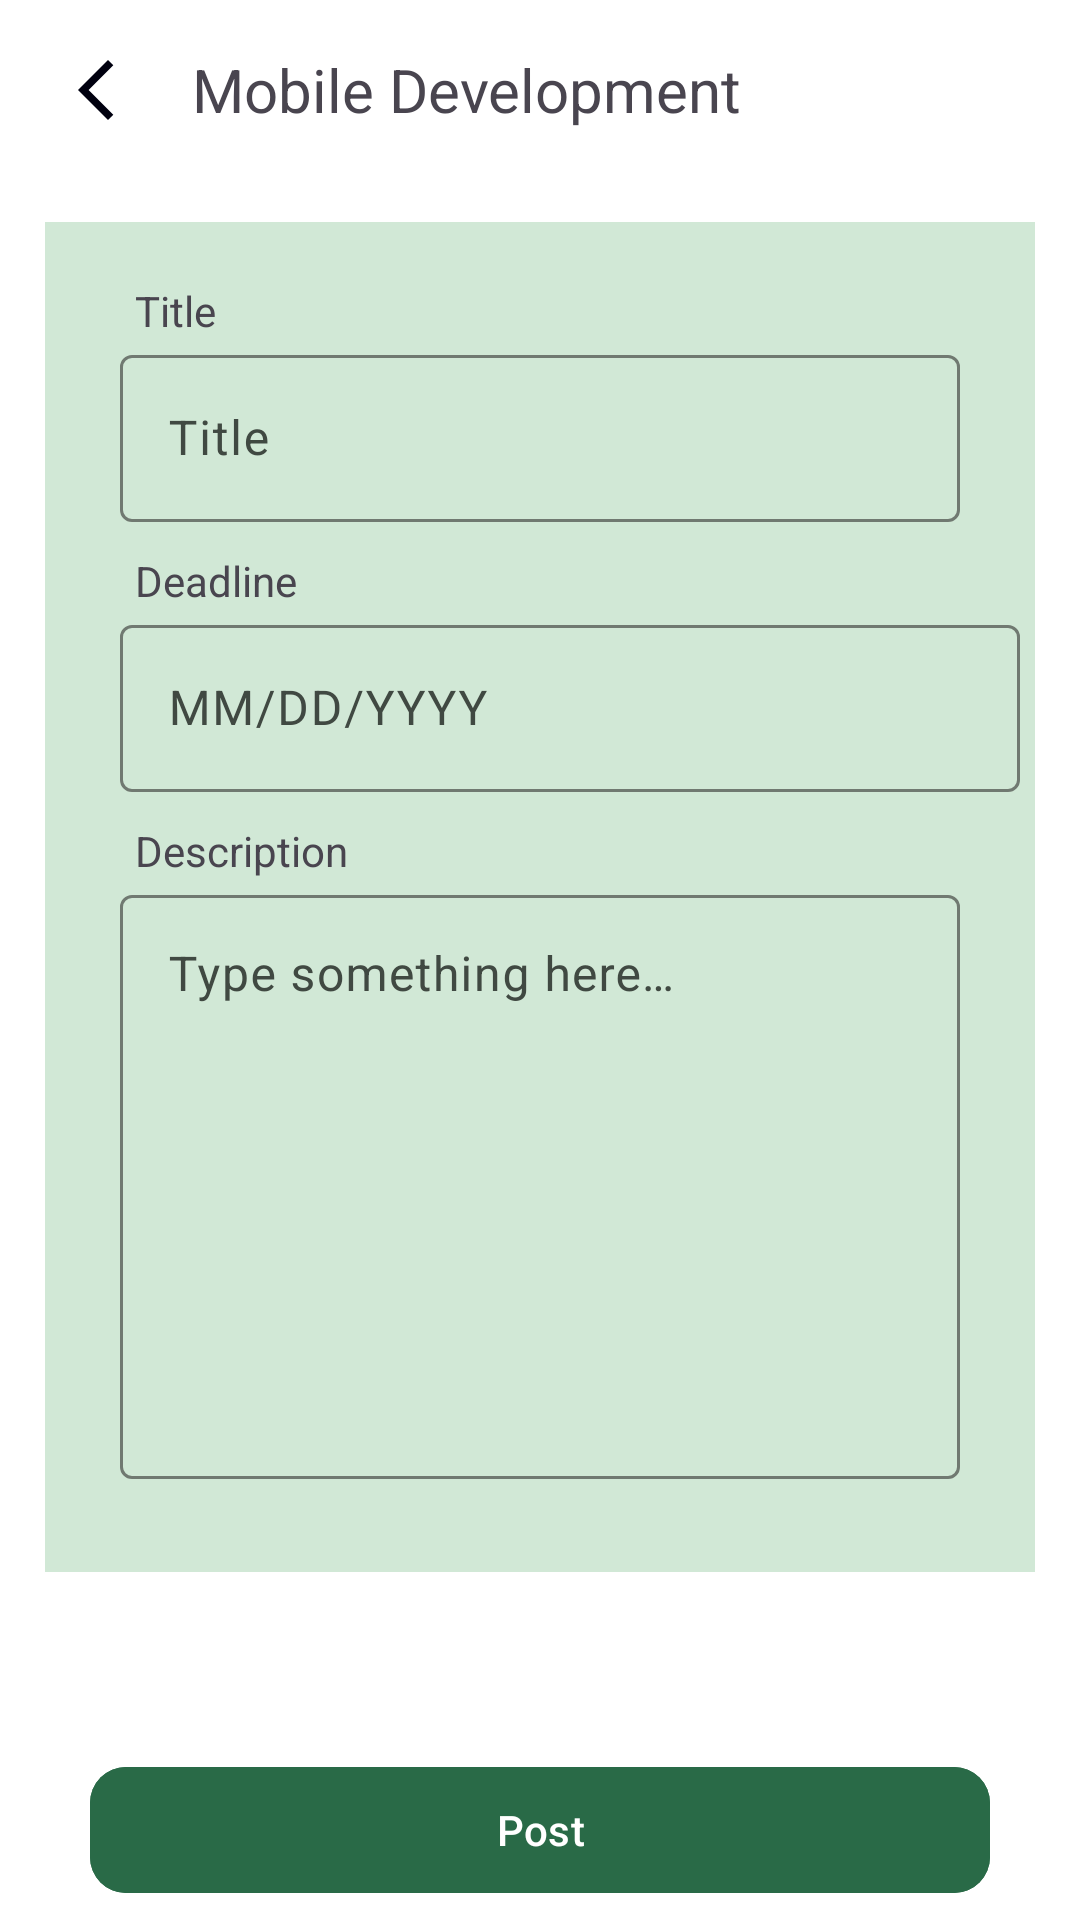

Where to tap for icons on this 1080px x 1920px app screen, as point (x, y):
back: point (95, 90)
